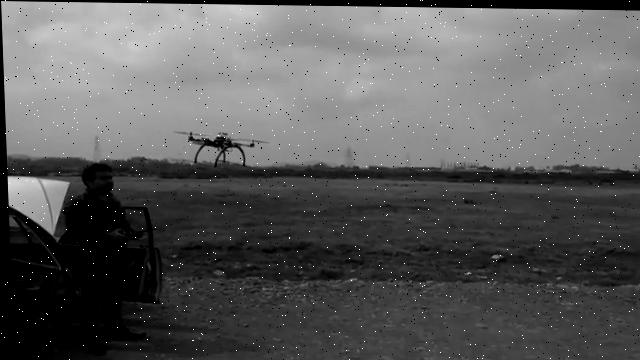drone: (171, 126, 272, 167)
